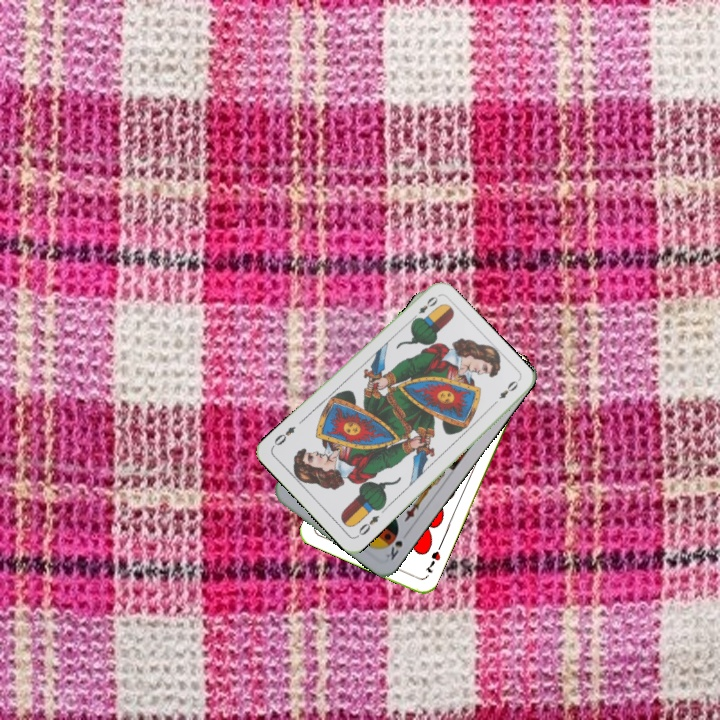EO: (407, 292, 440, 324), (353, 511, 382, 540)
H7: (421, 547, 443, 575)
SK: (382, 527, 411, 563)
